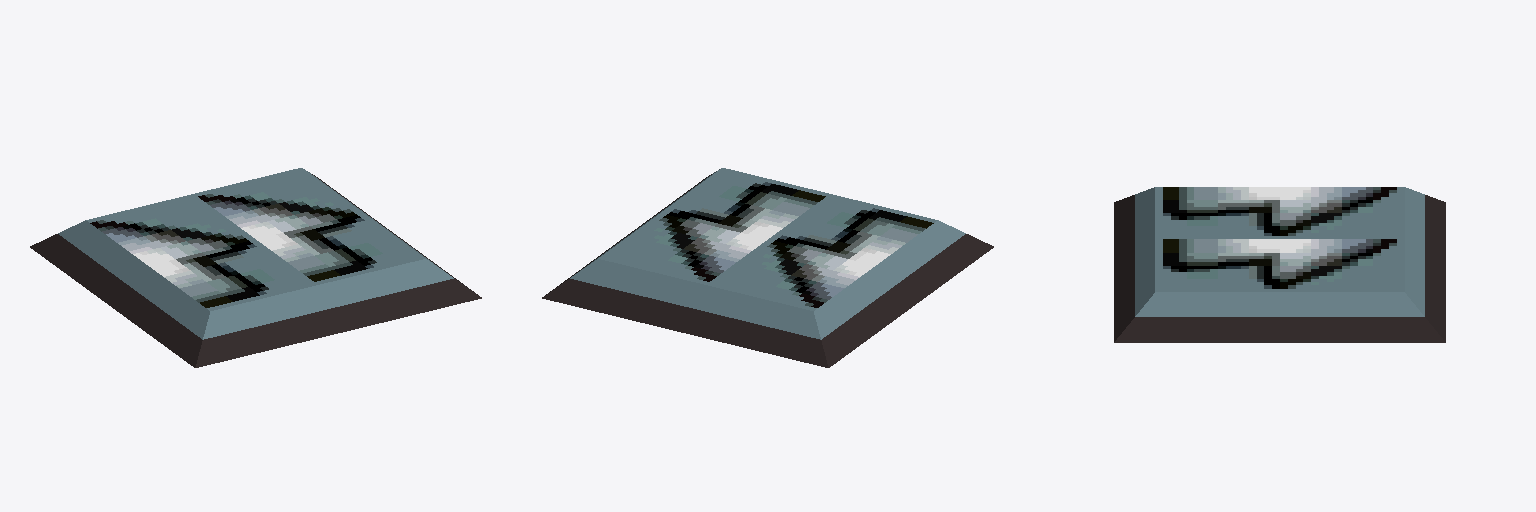
3 views of the same model, side by side, from view 1: azimuth 30°, elevation 25°; view 2: azimuth 150°, elevation 25°; view 3: azimuth 270°, elevation 25° (orthographic).
Parts seen in each view (by area): view 1: world_root; view 2: world_root; view 3: world_root.
Boxes of the visible parts, box(x1,y1,x2,y2) form: world_root: box(30, 168, 481, 367); world_root: box(542, 168, 993, 367); world_root: box(1114, 187, 1445, 342).
Size of the model in its own units: 12.5 by 1.38 by 12.5.
Materials: 2 (2 with a texture image).